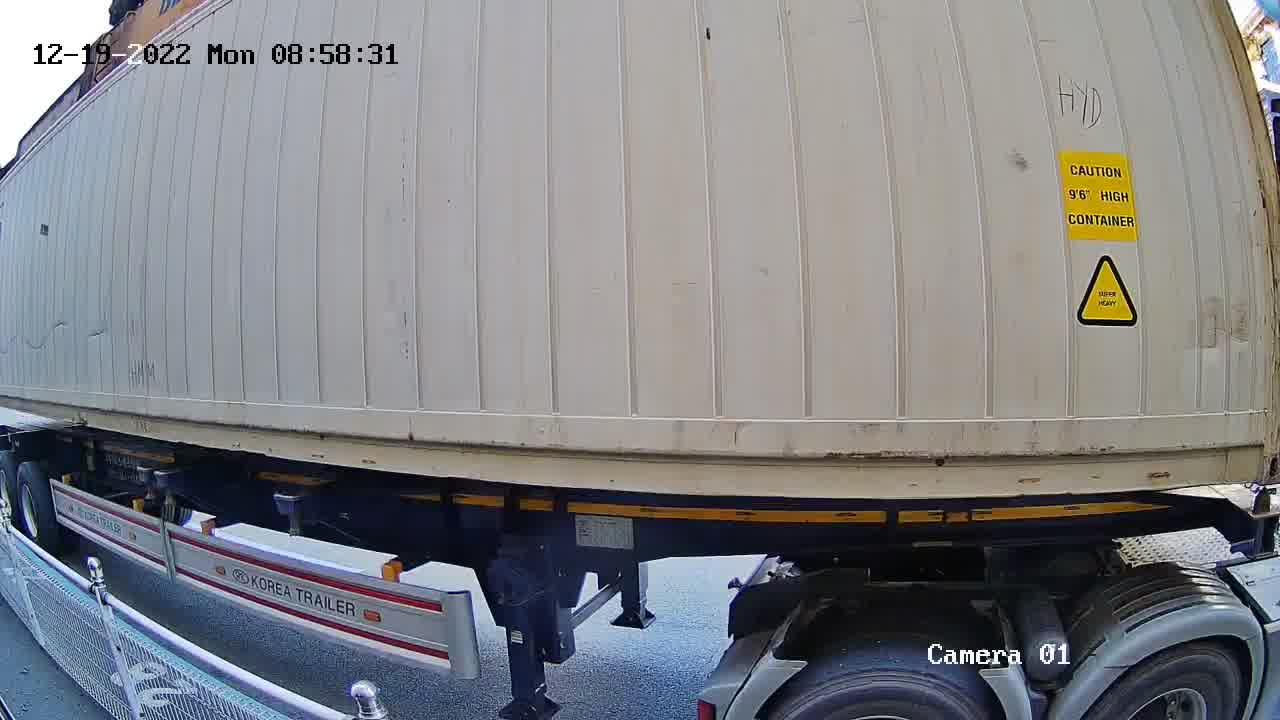Cone: (1245, 490, 1278, 557)
Hole_R: (1228, 428, 1279, 485)
Tire: (778, 659, 989, 708), (1092, 649, 1241, 714)
